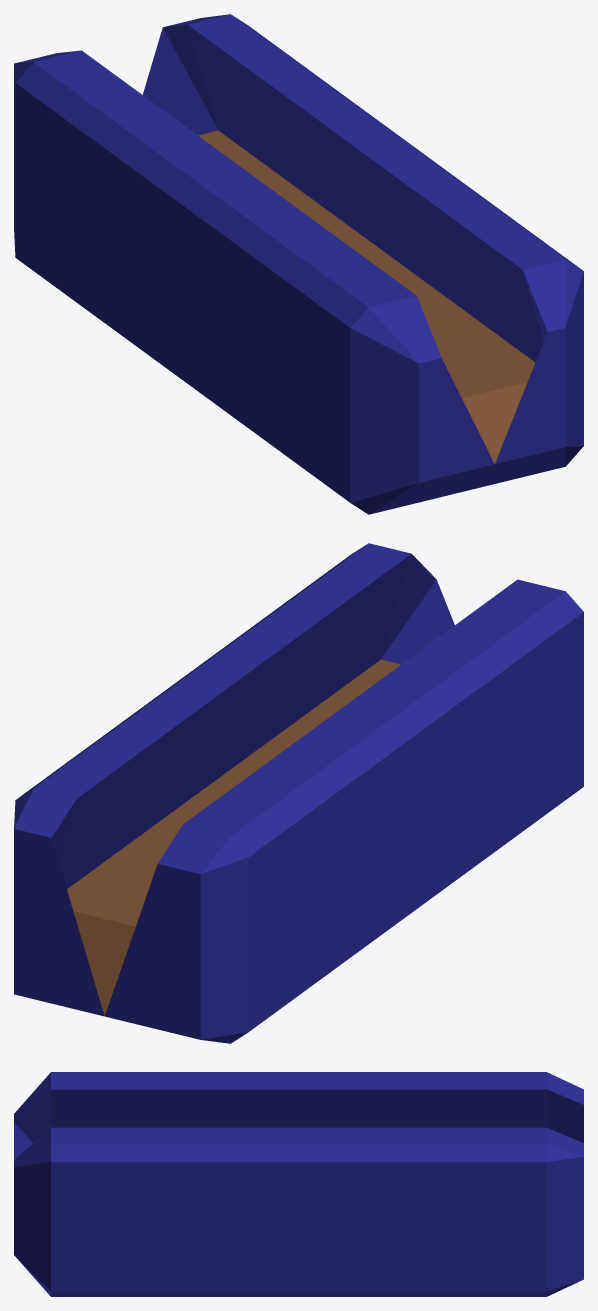
File: Pencilcase.fbx
The picture shows the model from 3 angles, top to bottom: view 1: azimuth 30°, elevation 25°; view 2: azimuth 150°, elevation 25°; view 3: azimuth 270°, elevation 25°; orthographic projection. The views are drawn at different scales.
Visible parts, largest first — view 1: Pencilcase; view 2: Pencilcase; view 3: Pencilcase.
Boxes of the visible parts, box(x1,y1,x2,y2) form: Pencilcase: box(14, 14, 583, 514); Pencilcase: box(14, 543, 583, 1043); Pencilcase: box(14, 1072, 583, 1296).
Bounding box in the file's own units: 1093 × 927 × 3120.
